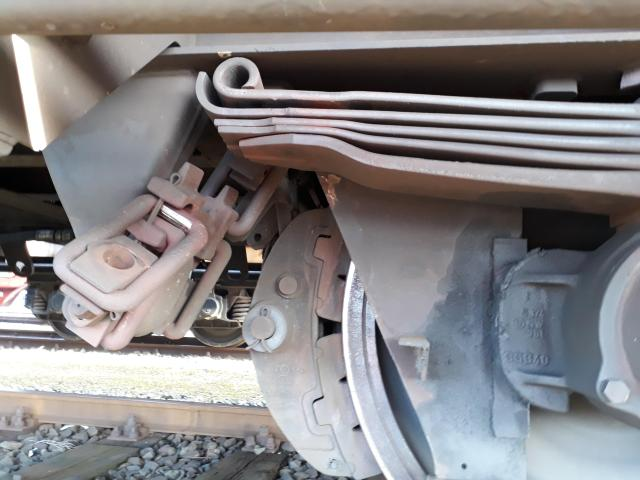blattfederww: (188, 55, 640, 203)
